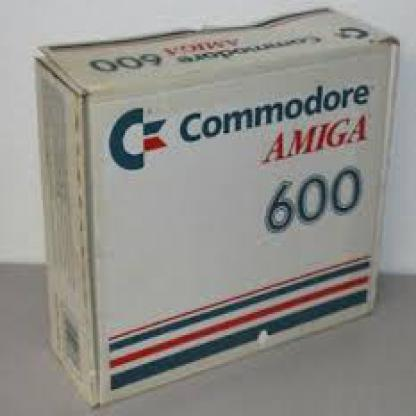CARDBOARD: (34, 4, 396, 404)
